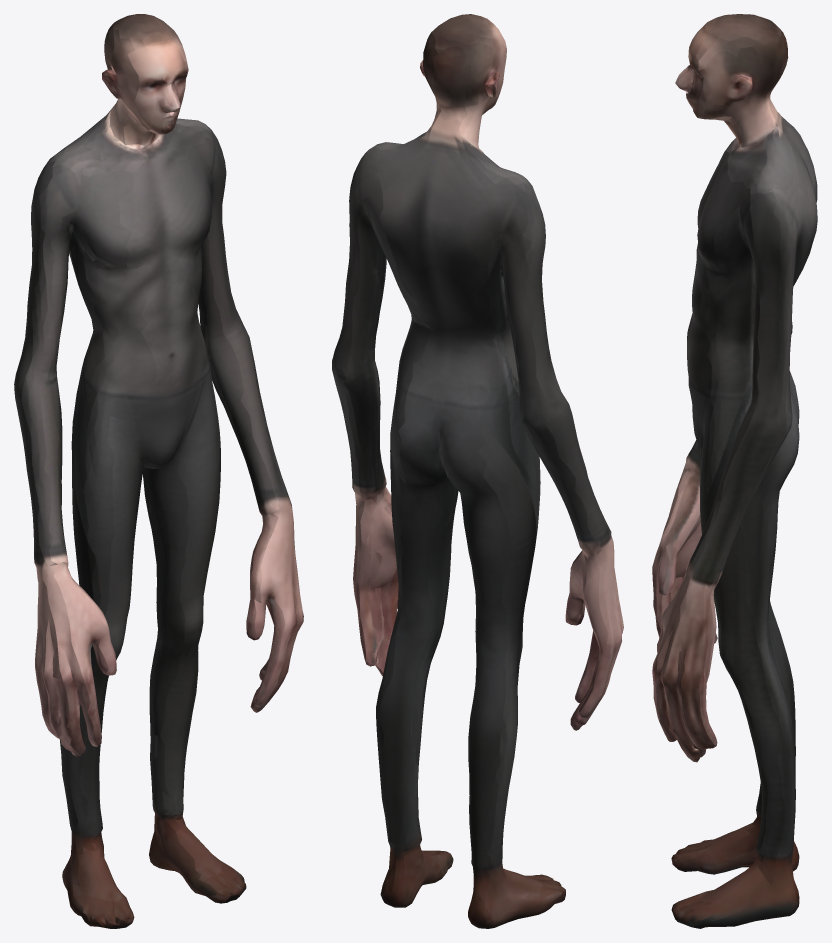
File: ghost_thin.glb
The picture shows the model from 3 angles, left to right: view 1: azimuth 30°, elevation 25°; view 2: azimuth 150°, elevation 25°; view 3: azimuth 270°, elevation 25°; orthographic projection.
Parts seen in each view (by area): view 1: geometry_0; view 2: geometry_0; view 3: geometry_0.
Part boxes in pixels (bbox=[...]): geometry_0: bbox=[14, 14, 303, 928]; geometry_0: bbox=[332, 14, 623, 928]; geometry_0: bbox=[652, 14, 817, 928].
Bounding box in the file's own units: 0.5883 × 1.9 × 0.3251.
Materials: 1 (1 with a texture image).
